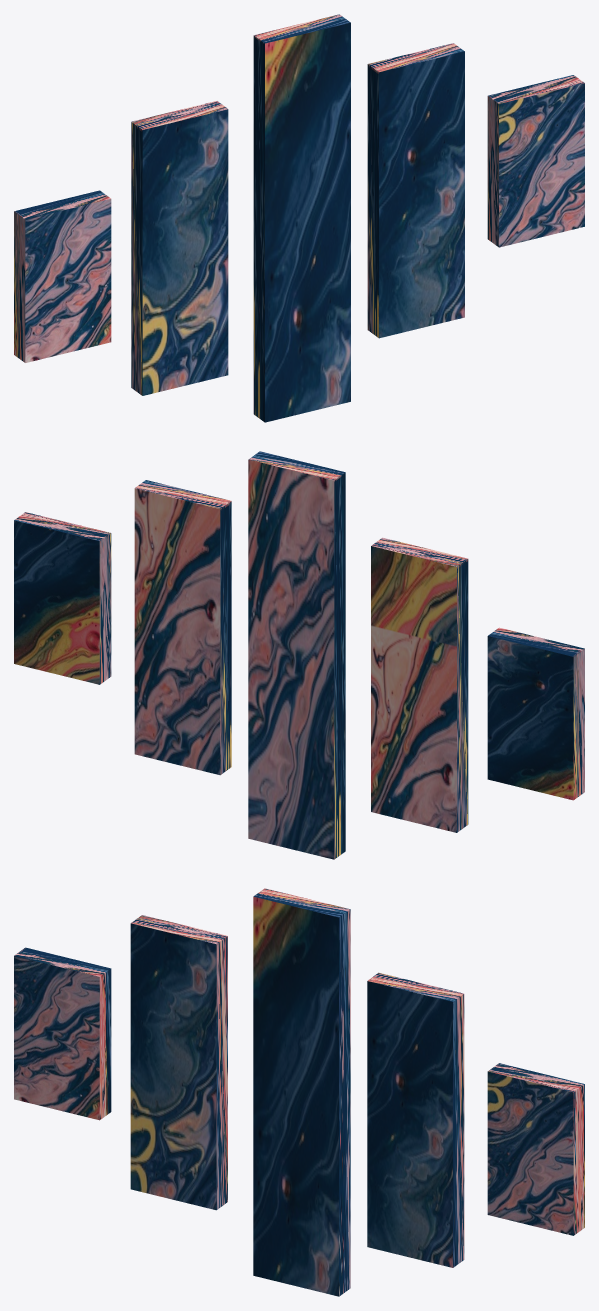
Rendered from paint1.fbx.
3 renders of one model, top to bottom at view 1: azimuth 30°, elevation 25°; view 2: azimuth 150°, elevation 25°; view 3: azimuth 330°, elevation 25°, orthographic.
Parts seen in each view (by area): view 1: Cube.001, Cube.003, Cube.002, Cube.004, Cube.008; view 2: Cube.001, Cube.003, Cube.002, Cube.004, Cube.008; view 3: Cube.001, Cube.003, Cube.002, Cube.004, Cube.008.
Boxes of the visible parts, x1=… form: Cube.001: x1=253, y1=14, x2=350, y2=422; Cube.003: x1=131, y1=101, x2=228, y2=395; Cube.002: x1=367, y1=43, x2=464, y2=338; Cube.004: x1=14, y1=190, x2=111, y2=362; Cube.008: x1=487, y1=75, x2=584, y2=247; Cube.001: x1=248, y1=451, x2=345, y2=859; Cube.003: x1=371, y1=537, x2=468, y2=832; Cube.002: x1=134, y1=480, x2=231, y2=775; Cube.004: x1=487, y1=627, x2=584, y2=800; Cube.008: x1=14, y1=512, x2=111, y2=684; Cube.001: x1=253, y1=888, x2=350, y2=1296; Cube.003: x1=130, y1=915, x2=227, y2=1210; Cube.002: x1=367, y1=972, x2=464, y2=1267; Cube.004: x1=14, y1=947, x2=111, y2=1120; Cube.008: x1=487, y1=1063, x2=584, y2=1235.
Size of the model in its own units: 557 by 360 by 20.17.
